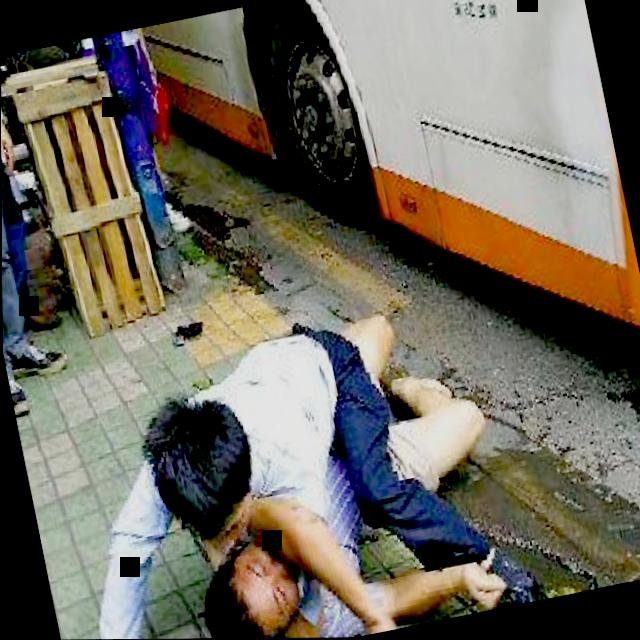Fall-Detected: (1, 238, 576, 640)
